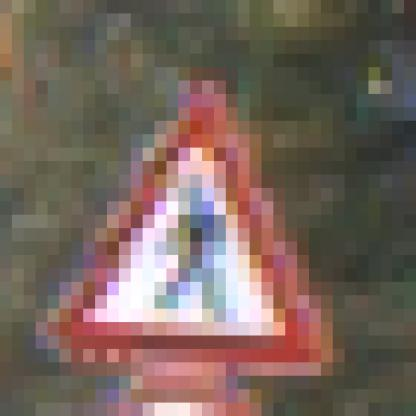crosswalk: (54, 98, 335, 372)
